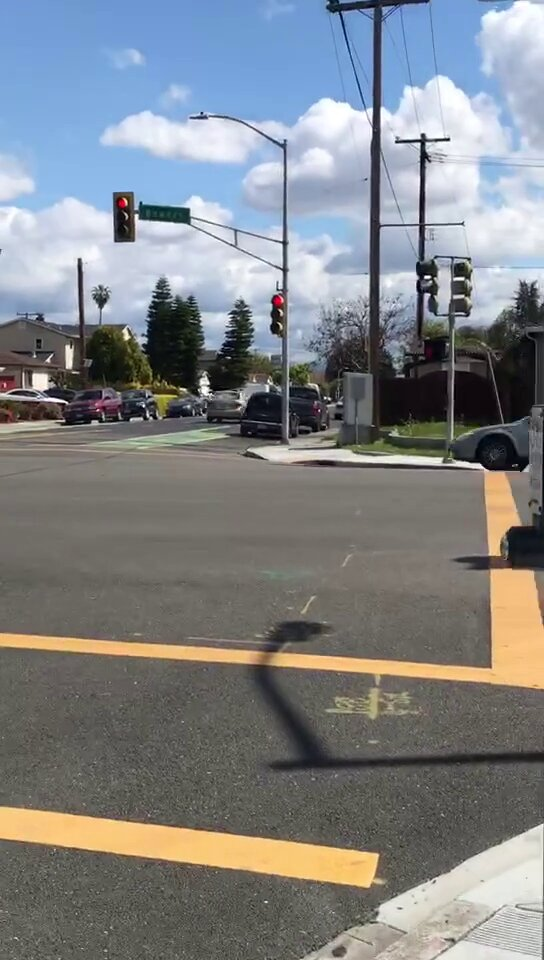red_light: (114, 191, 133, 241), (270, 294, 286, 335)
